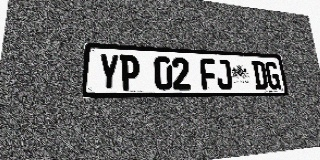0: (154, 56, 173, 90)
2: (172, 57, 190, 90)
D: (251, 61, 268, 90)
F: (199, 58, 218, 90)
G: (264, 61, 281, 90)
J: (215, 59, 233, 90)
P: (120, 55, 140, 90)
Y: (98, 54, 119, 90)
